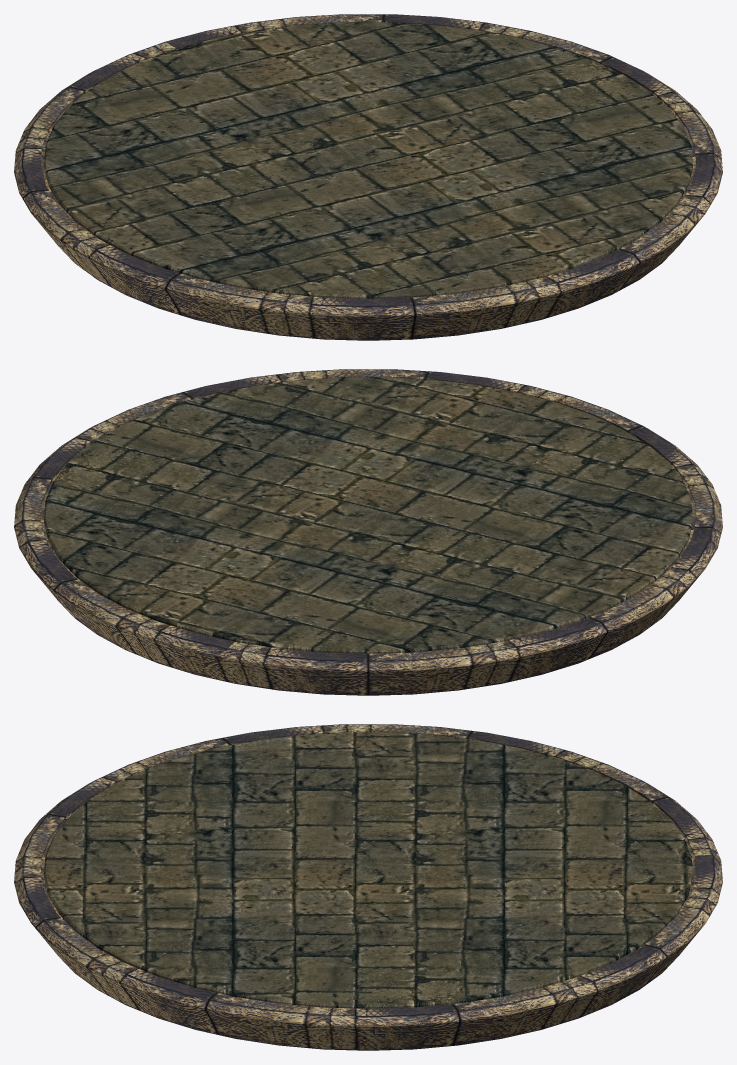
File: platform.FBX
The picture shows the model from 3 angles, top to bottom: view 1: azimuth 30°, elevation 25°; view 2: azimuth 150°, elevation 25°; view 3: azimuth 270°, elevation 25°; orthographic projection.
Visible parts, largest first — view 1: Base, Round; view 2: Base, Round; view 3: Base, Round.
Boxes of the visible parts, x1,y1,x2,y2 form: Base: (44, 22, 692, 298); Round: (14, 14, 722, 340); Base: (44, 377, 692, 653); Round: (14, 369, 722, 695); Base: (44, 732, 692, 1008); Round: (14, 724, 722, 1050).
Bounding box in the file's own units: 131 × 8.99 × 131.
